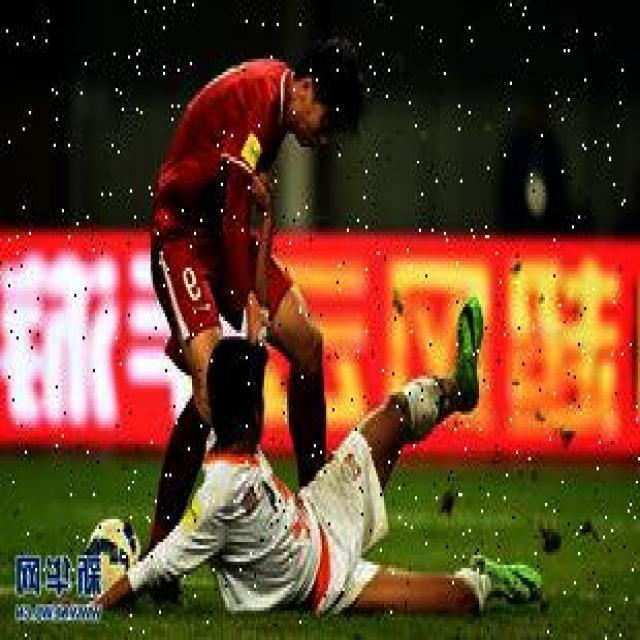fall: (182, 324, 532, 620)
